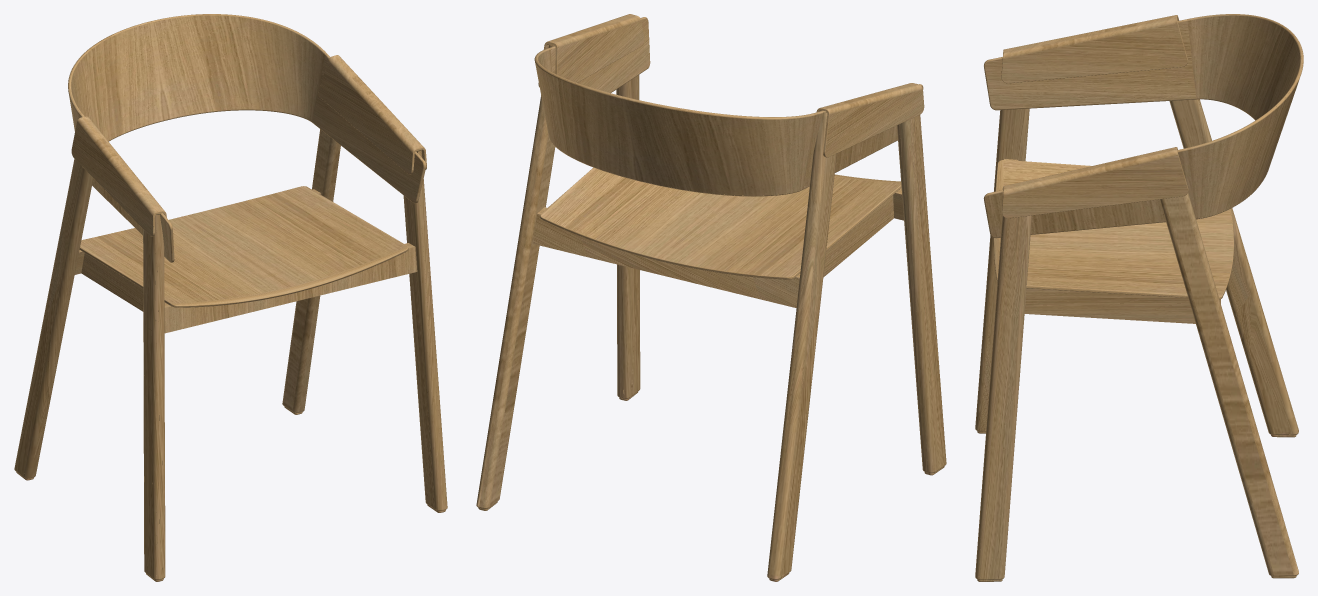
3 renders of one model, left to right at view 1: azimuth 30°, elevation 25°; view 2: azimuth 150°, elevation 25°; view 3: azimuth 270°, elevation 25°, orthographic. The views are drawn at different scales.
Parts seen in each view (by area): view 1: Object_9, Object_6, Object_15, Object_14, Object_8, Object_11, Object_17, Object_7, Object_5, Object_23, Object_24, Object_21; view 2: Object_9, Object_17, Object_6, Object_8, Object_11, Object_7, Object_14, Object_21; view 3: Object_6, Object_10, Object_9, Object_14, Object_17, Object_8, Object_7, Object_18, Object_5, Object_20, Object_22.
Part boxes in pixels (left/top/right/bottom): Object_9: left=25, top=21, right=442, bottom=510; Object_6: left=15, top=21, right=447, bottom=581; Object_15: left=152, top=15, right=408, bottom=250; Object_14: left=71, top=22, right=435, bottom=569; Object_8: left=14, top=21, right=445, bottom=579; Object_11: left=34, top=21, right=426, bottom=477; Object_17: left=69, top=15, right=405, bottom=410; Object_7: left=16, top=21, right=444, bottom=581; Object_5: left=155, top=156, right=444, bottom=579; Object_23: left=290, top=246, right=407, bottom=291; Object_24: left=81, top=54, right=423, bottom=305; Object_21: left=68, top=14, right=325, bottom=141; Object_9: left=540, top=18, right=925, bottom=473; Object_17: left=490, top=62, right=828, bottom=506; Object_6: left=479, top=14, right=945, bottom=580; Object_8: left=479, top=81, right=946, bottom=579; Object_11: left=499, top=21, right=924, bottom=499; Object_7: left=476, top=17, right=944, bottom=581; Object_14: left=476, top=16, right=780, bottom=579; Object_21: left=536, top=48, right=816, bottom=119; Object_6: left=975, top=15, right=1302, bottom=581; Object_10: left=977, top=21, right=1295, bottom=581; Object_9: left=985, top=15, right=1302, bottom=296; Object_14: left=980, top=15, right=1300, bottom=575; Object_17: left=1174, top=15, right=1299, bottom=434; Object_8: left=975, top=15, right=1303, bottom=579; Object_7: left=977, top=20, right=1303, bottom=581; Object_18: left=1003, top=18, right=1202, bottom=218; Object_5: left=978, top=216, right=1005, bottom=572; Object_20: left=1187, top=14, right=1302, bottom=148; Object_22: left=1187, top=59, right=1303, bottom=219.
Bounding box in the file's own units: 56.19 × 75.99 × 50.51.
2 materials, 2 textured.
